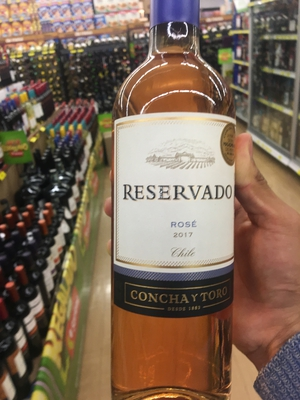reservado rose: (116, 3, 242, 398)
